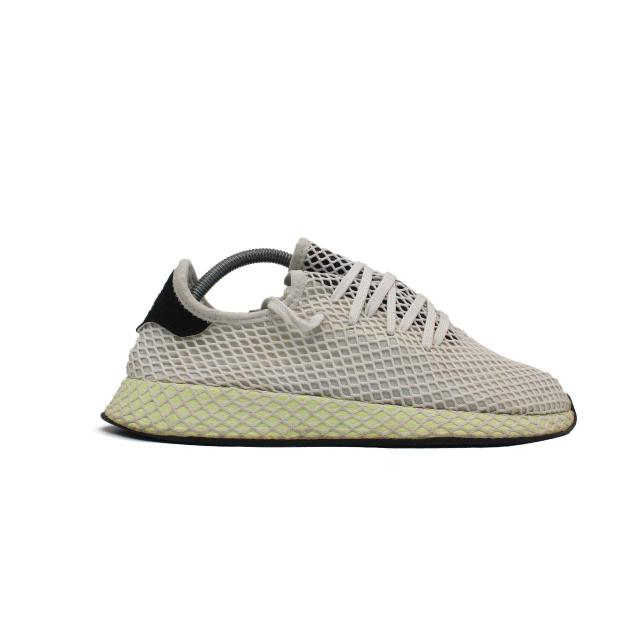heel: (121, 263, 201, 377)
midsole: (98, 377, 576, 447)
uppersole: (157, 242, 571, 412)
